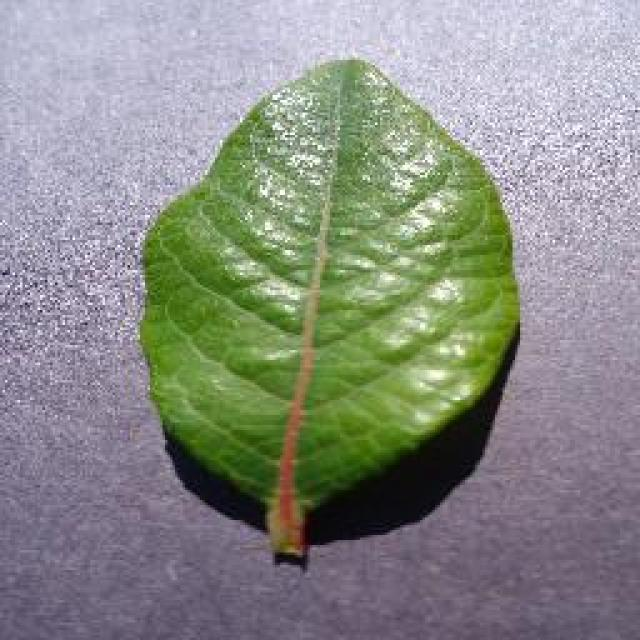Blu_healthy: (156, 105, 510, 435)
